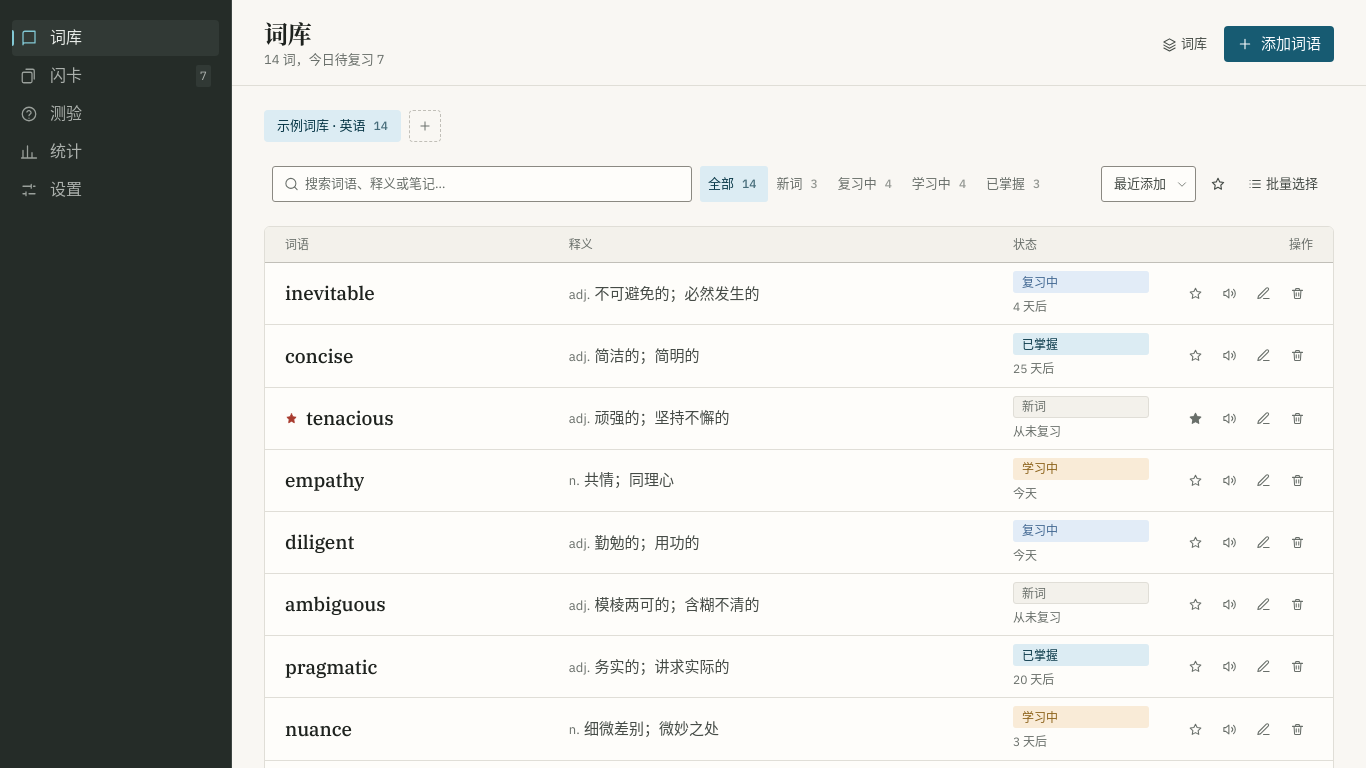
Scenario: App smoke test › opens the word editor modal and closes it again
What coordinates should you click on to do the following:
click the button "添加词语"
I would click on:
 (1279, 44)
Its box is [1224, 26, 1334, 62].
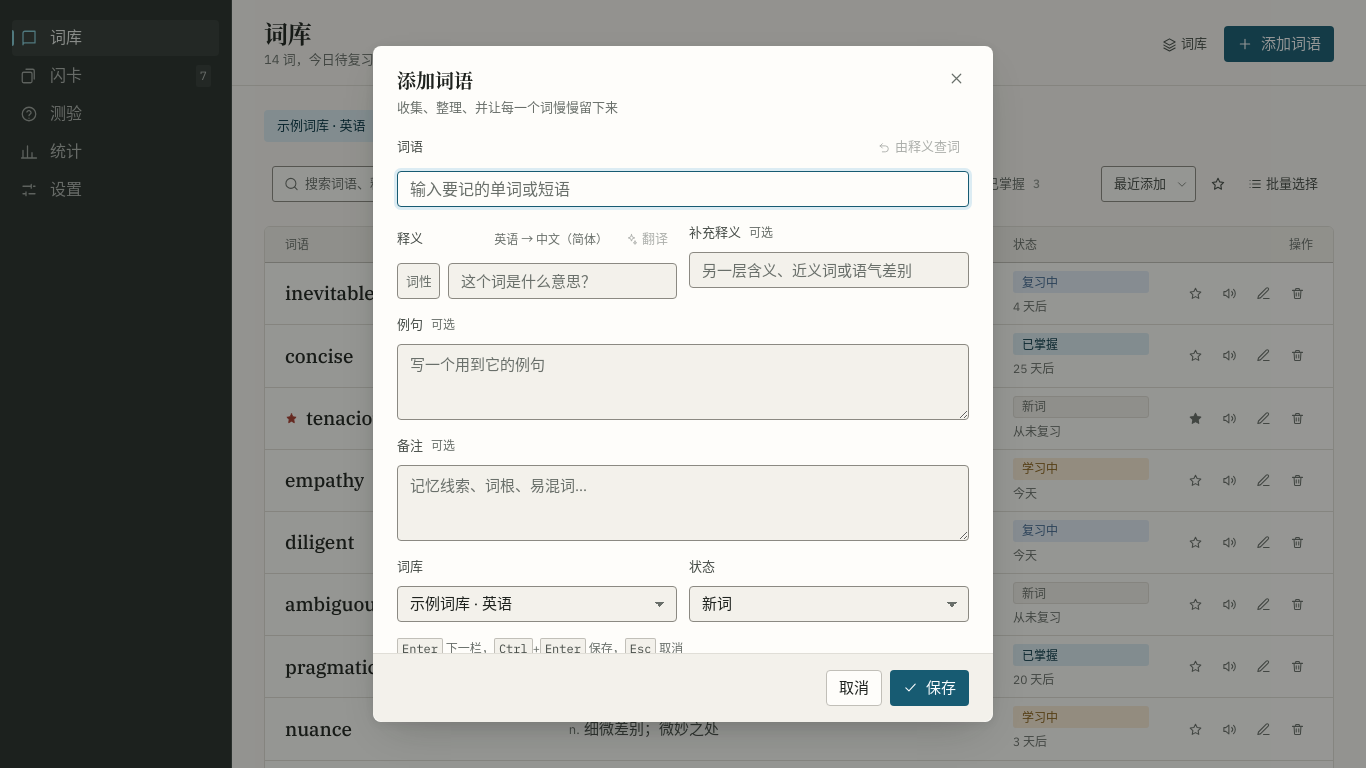
Expected: the dialog with class "modal" is shown, [373, 46, 993, 722]
What coordinates should you click on to do the following:
click the button "取消"
I would click on:
 (854, 688)
Its box is [826, 670, 882, 706].
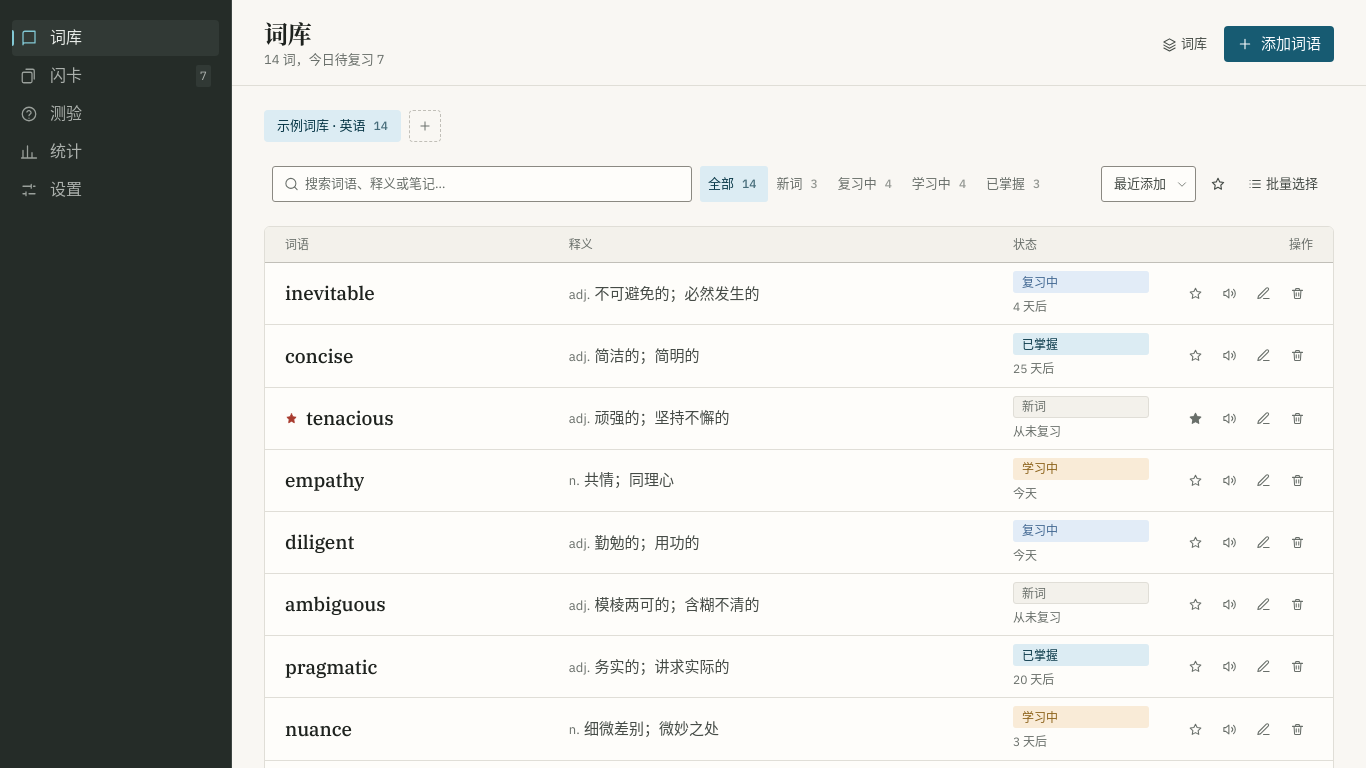
Expected: the dialog with class "modal" is gone
